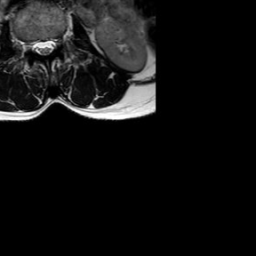CCS_stenosis: (41, 29, 48, 62)
LFS_normal: (55, 24, 63, 52)
LLS_normal: (48, 28, 55, 60)
RFS_normal: (25, 31, 32, 56)
RLS_normal: (32, 30, 41, 59)
